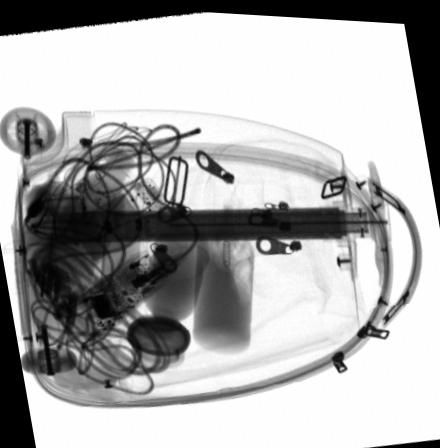Powerbank: (64, 174, 179, 263)
